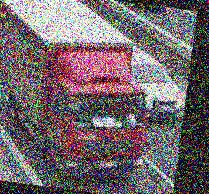car: (124, 58, 189, 125)
